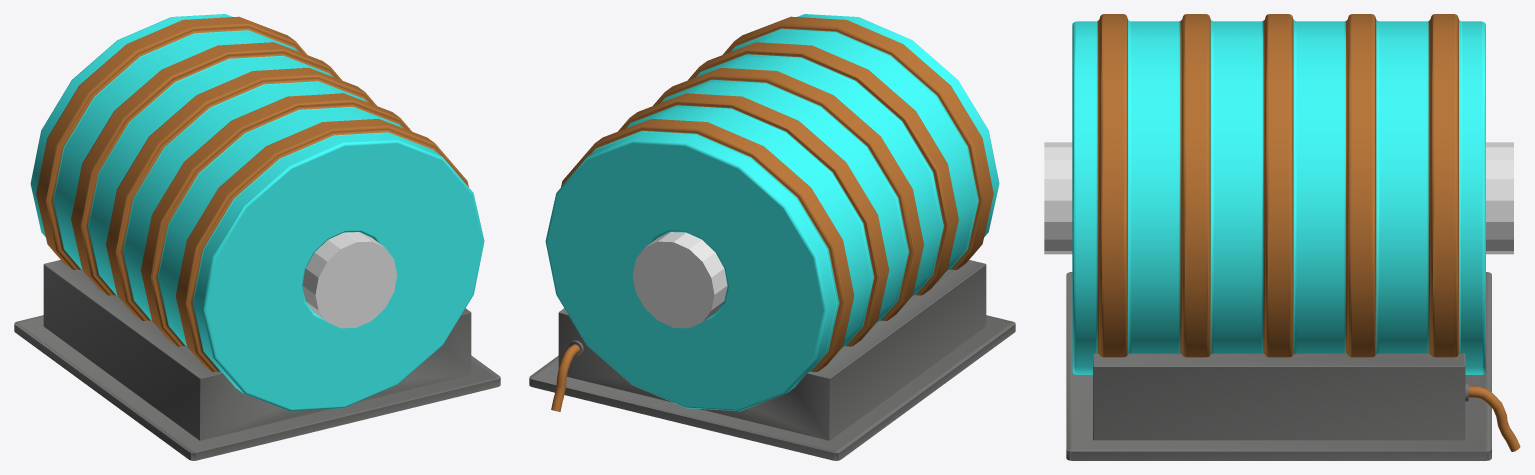
The model's file is Generic_Generator_10.fbx.
3 renders of one model, left to right at view 1: azimuth 30°, elevation 25°; view 2: azimuth 150°, elevation 25°; view 3: azimuth 270°, elevation 25°, orthographic. The views are drawn at different scales.
Parts seen in each view (by area): view 1: Cylinder.001, Cylinder.002; view 2: Cylinder.001, Cylinder.002; view 3: Cylinder.001, Cylinder.002.
Part boxes in pixels (x1,y1,x2,y2): Cylinder.001: [14, 14, 500, 460]; Cylinder.002: [302, 232, 397, 328]; Cylinder.001: [529, 14, 1015, 460]; Cylinder.002: [632, 232, 727, 328]; Cylinder.001: [1066, 14, 1520, 460]; Cylinder.002: [1044, 142, 1513, 254].
Bounding box in the file's own units: 1028 × 930 × 1150.
